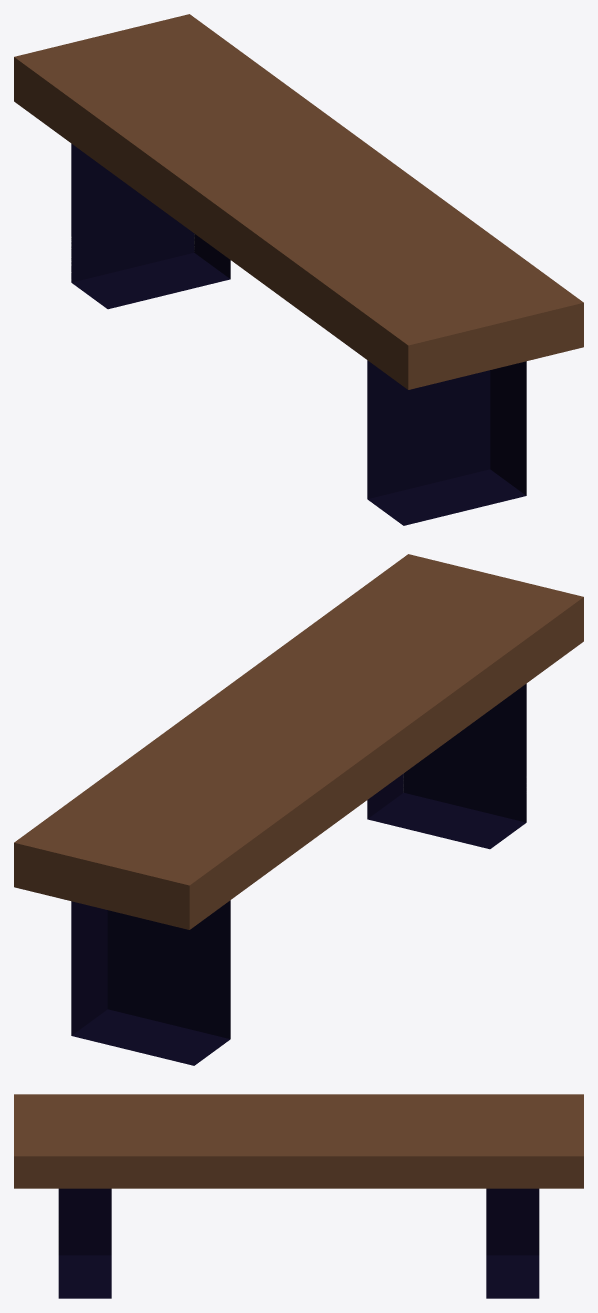
The model's file is PrisonBench.glb.
The picture shows the model from 3 angles, top to bottom: view 1: azimuth 30°, elevation 25°; view 2: azimuth 150°, elevation 25°; view 3: azimuth 270°, elevation 25°; orthographic projection. The views are drawn at different scales.
Parts seen in each view (by area): view 1: Cube.001, Cube; view 2: Cube.001, Cube; view 3: Cube.001, Cube.
Boxes of the visible parts, x1,y1,x2,y2 form: Cube.001: (14, 14, 583, 389); Cube: (71, 143, 526, 525); Cube.001: (14, 554, 583, 929); Cube: (71, 683, 526, 1065); Cube.001: (14, 1094, 583, 1188); Cube: (58, 1188, 539, 1298).
Size of the model in its own units: 0.5143 by 0.5863 by 2.
2 materials, 1 textured.
